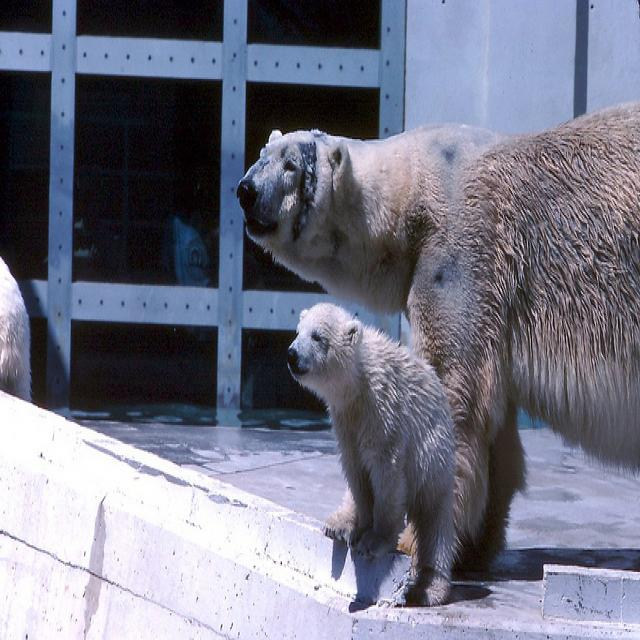Bear: (232, 81, 640, 566), (286, 298, 456, 616)
